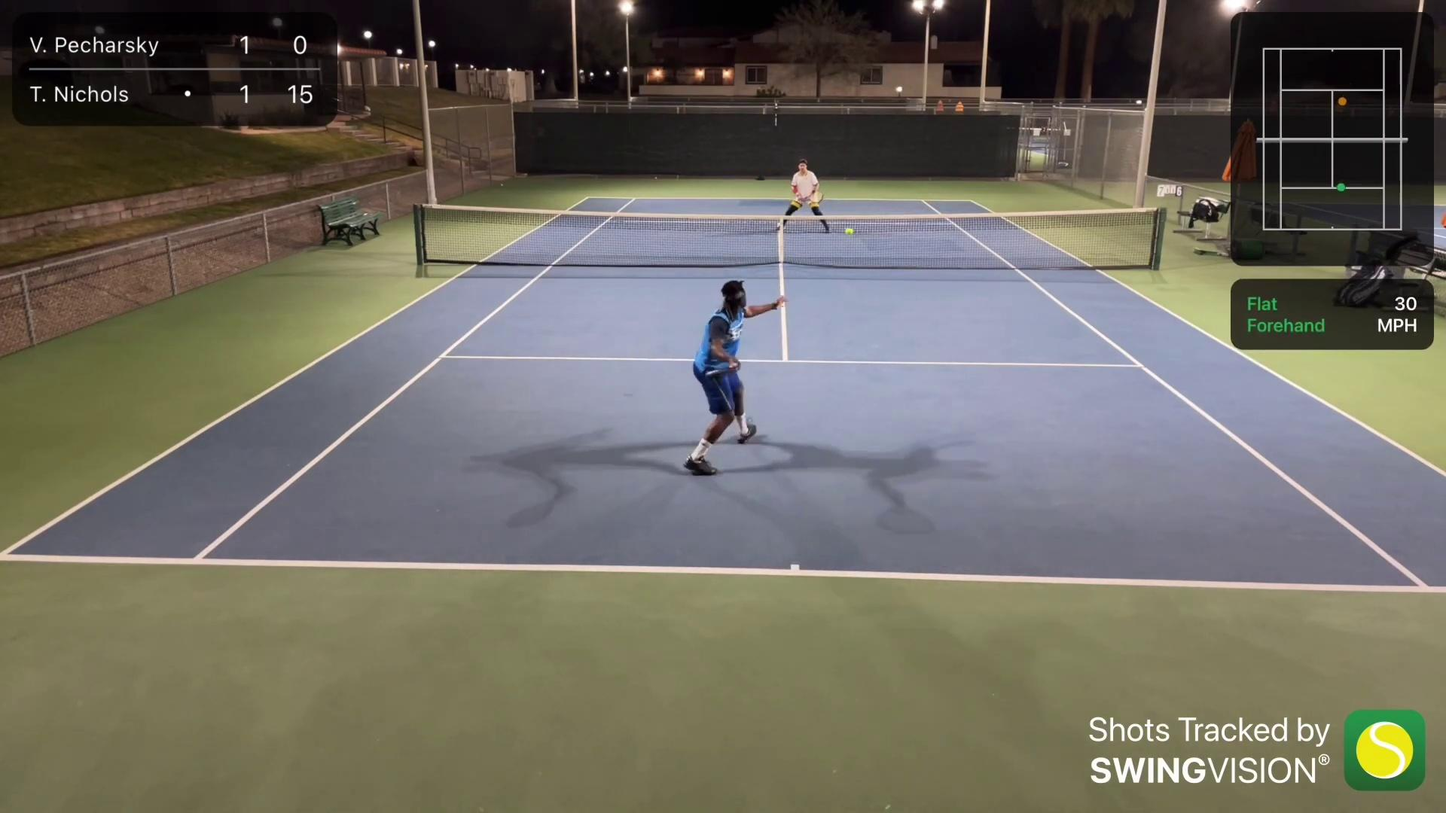ball: (845, 225, 856, 235)
